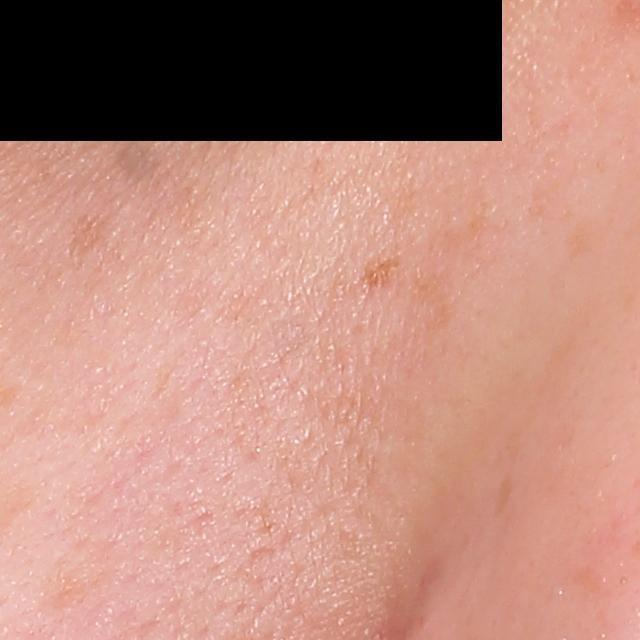melasma: (357, 244, 414, 296), (63, 214, 108, 264)
